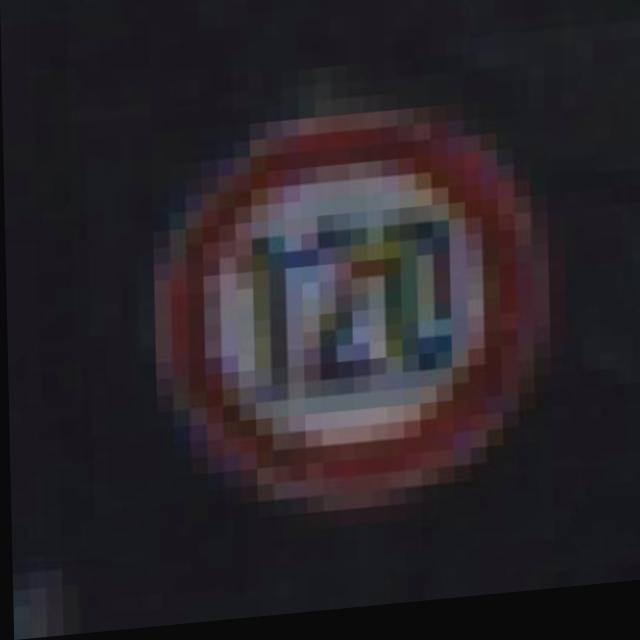limit120: (148, 90, 563, 527)
